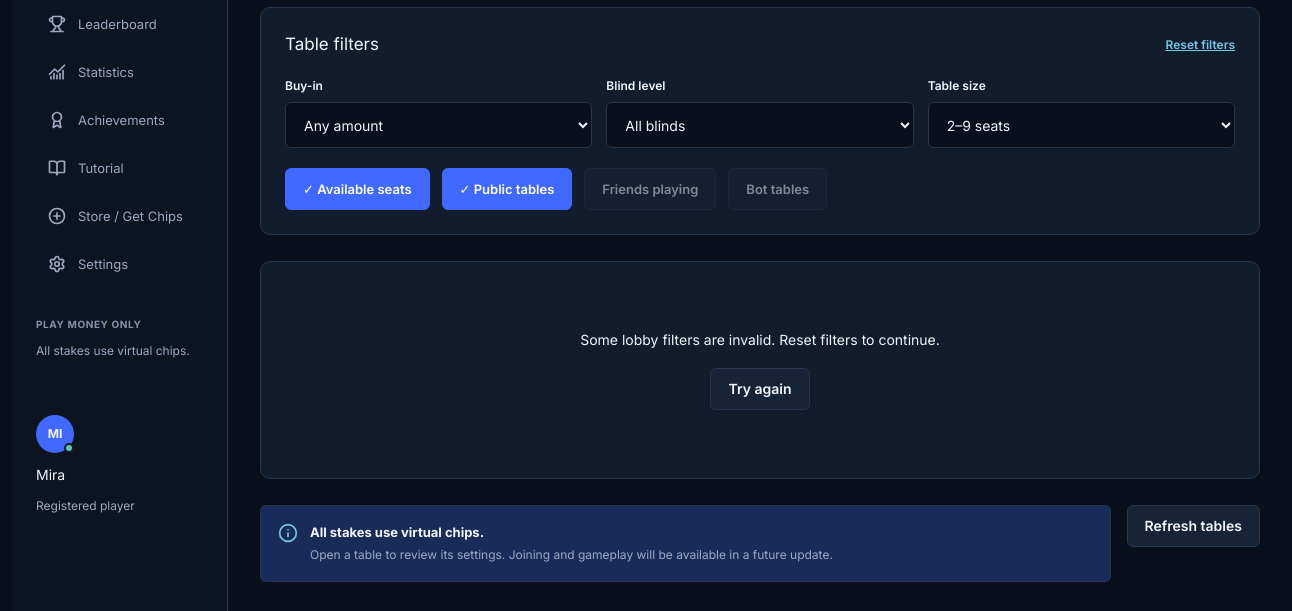
Test case: server error 400 is actionable and retryable
The image size is (1292, 611).
(page scrolled)
expect the message shows "Some lobby filters are invalid": met, box [580,331,940,348]
Click the button "Try again". click: click(760, 389)
box: [710,368,810,410]
(page scrolled)
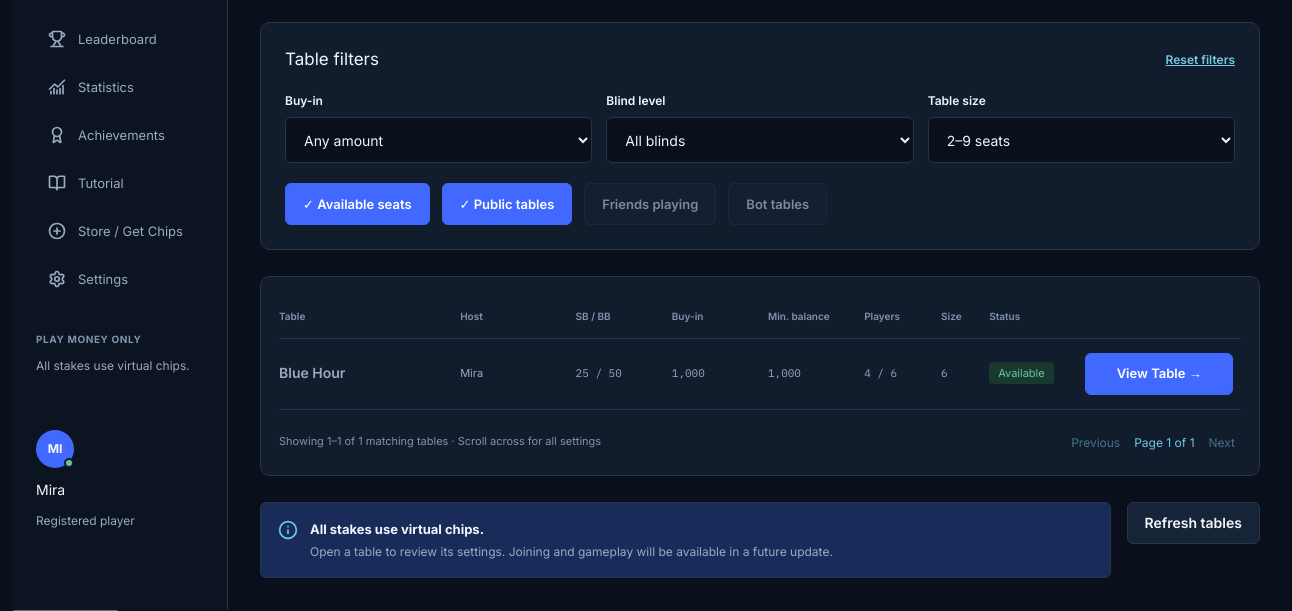
expect the link "Blue Hour" is shown: met, box [279,364,345,381]
